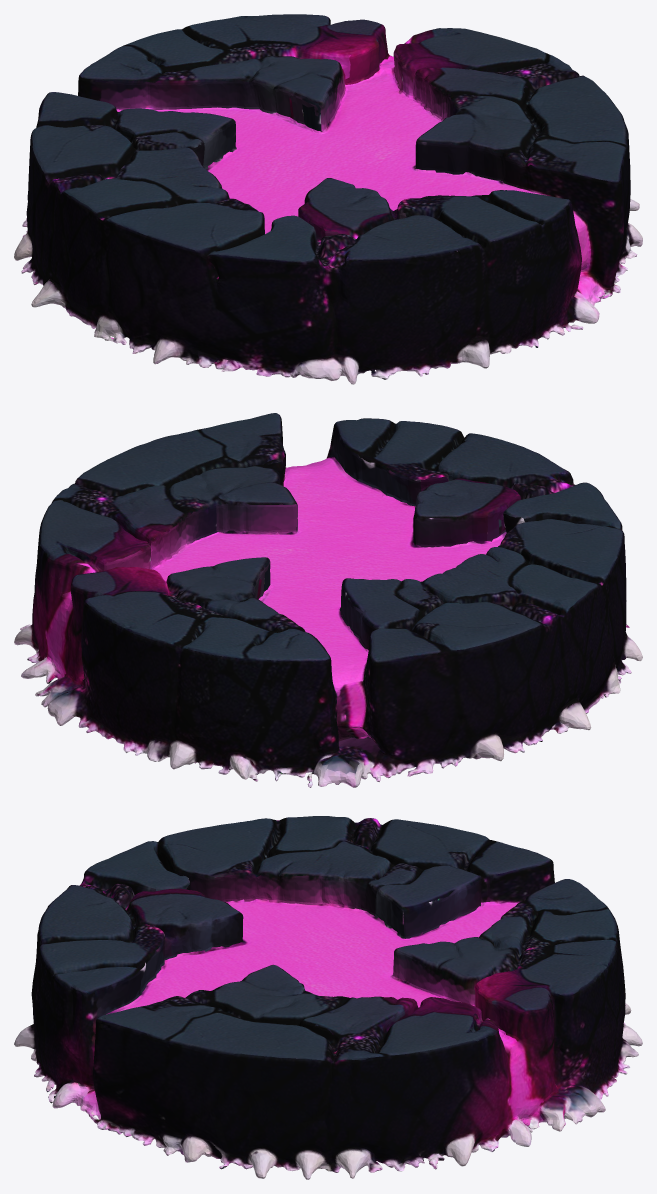
Rendered from world-root-basin-texture-wrap-2026-05-14T22-53-23-430Z.glb.
3 views of the same model, one above another, from view 1: azimuth 30°, elevation 25°; view 2: azimuth 150°, elevation 25°; view 3: azimuth 270°, elevation 25° (orthographic). The views are drawn at different scales.
Parts seen in each view (by area): view 1: temp_mesh.ply; view 2: temp_mesh.ply; view 3: temp_mesh.ply.
Part boxes in pixels (box(x1,y1,x2,y2)): temp_mesh.ply: box(14, 14, 642, 384); temp_mesh.ply: box(14, 413, 642, 787); temp_mesh.ply: box(14, 816, 642, 1179).
Size of the model in its own units: 1.97 by 0.4128 by 1.97.
Materials: 1 (1 with a texture image).
